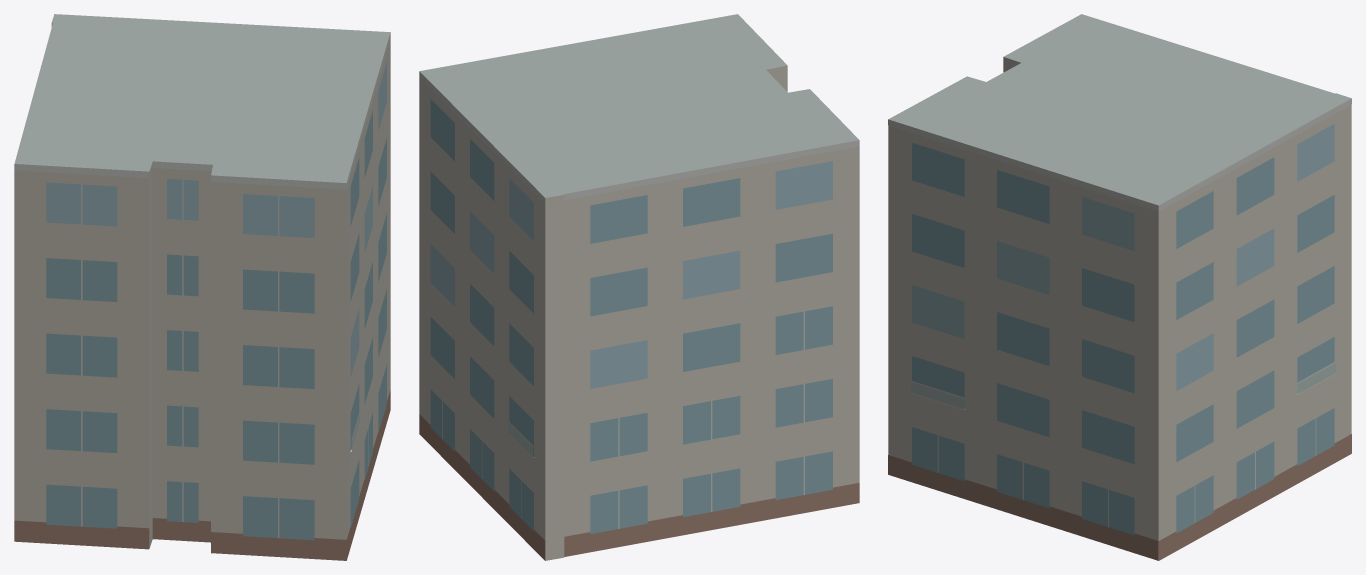
The model's file is survey-upis-32654196.glb.
3 views of the same model, side by side, from view 1: azimuth 30°, elevation 25°; view 2: azimuth 150°, elevation 25°; view 3: azimuth 270°, elevation 25° (orthographic). The views are drawn at different scales.
Parts seen in each view (by area): view 1: survey-upis-32654196.tmp; view 2: survey-upis-32654196.tmp; view 3: survey-upis-32654196.tmp.
Boxes of the visible parts, x1,y1,x2,y2 form: survey-upis-32654196.tmp: (14, 14, 390, 560); survey-upis-32654196.tmp: (419, 14, 859, 560); survey-upis-32654196.tmp: (888, 14, 1351, 560).
Size of the model in its own units: 16.54 by 14.3 by 16.91.
